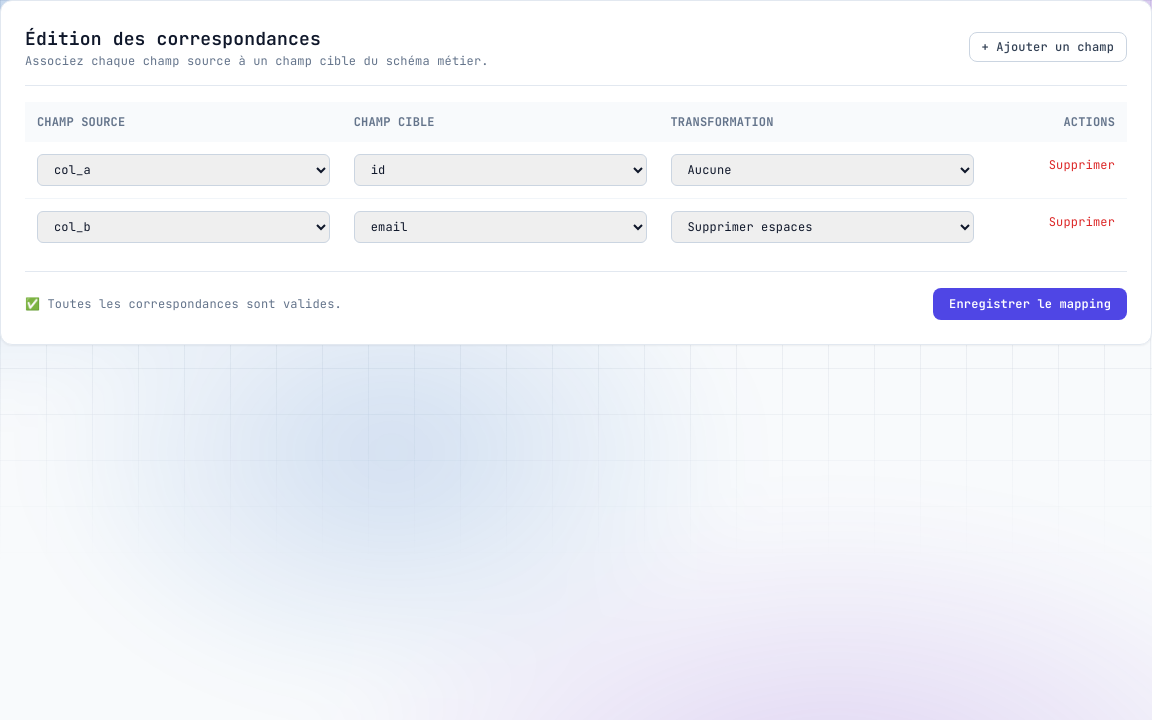
MappingEditor UI (I5.6) › détecte en direct un doublon de champ cible
Note: Assigner "id" au champ cible de la 2ème ligne (index 4)
Select "id" in the 5th dropdown at (500, 227), box [354,211,647,243]
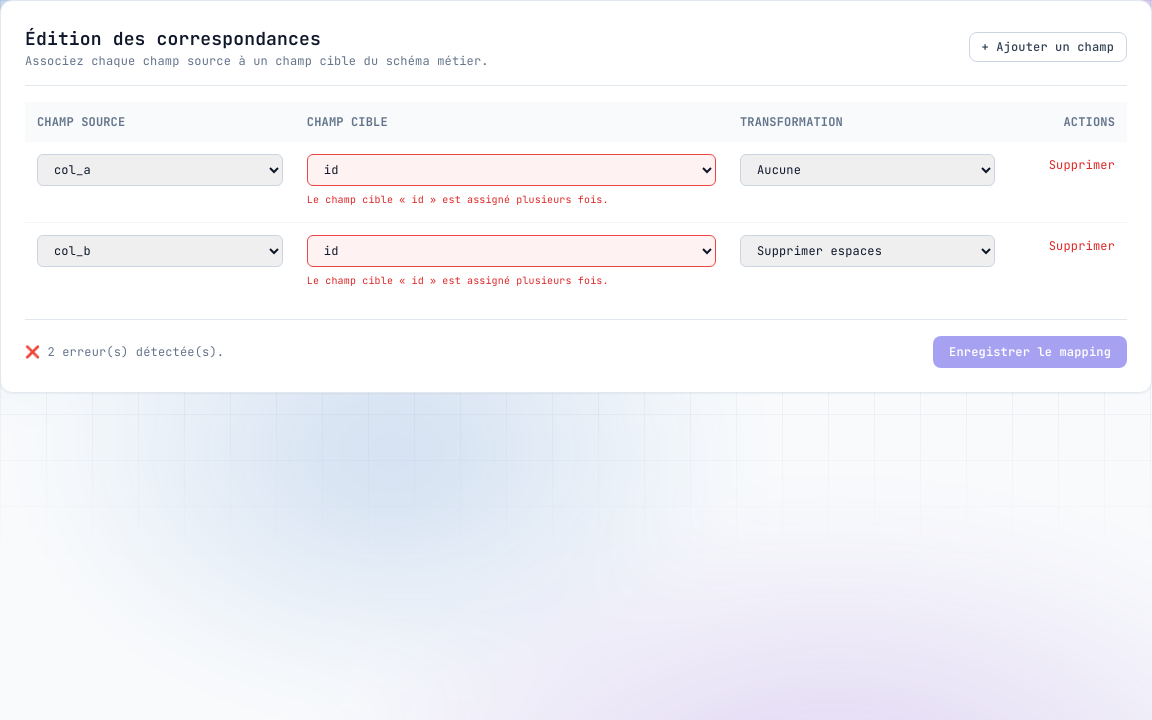
Now the 1st text "Le champ cible « id » est assigné plusieurs fois." is shown, box [307,193,609,206]
Now the button "Enregistrer le mapping" is disabled, box [933,336,1127,368]
